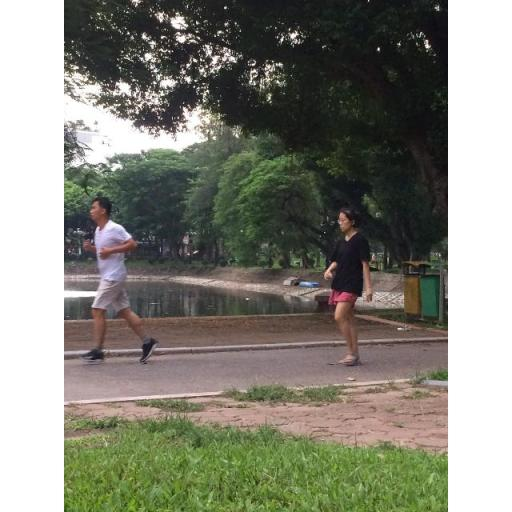Running: (74, 190, 166, 373)
